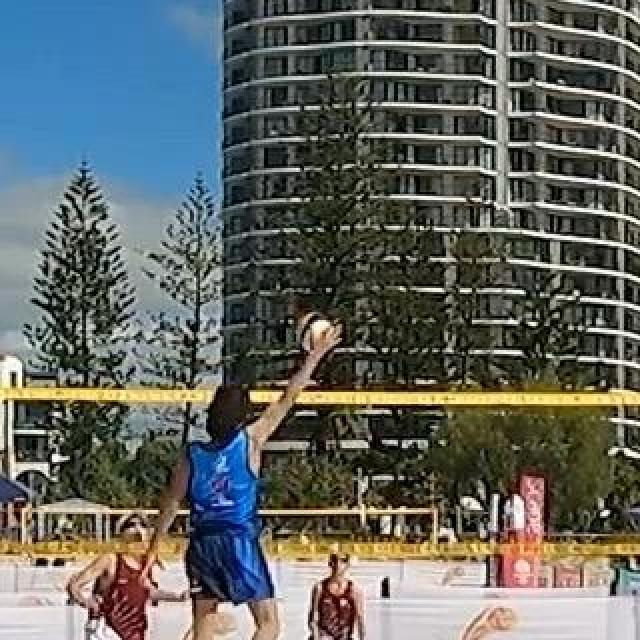volleyball: (296, 312, 336, 354)
